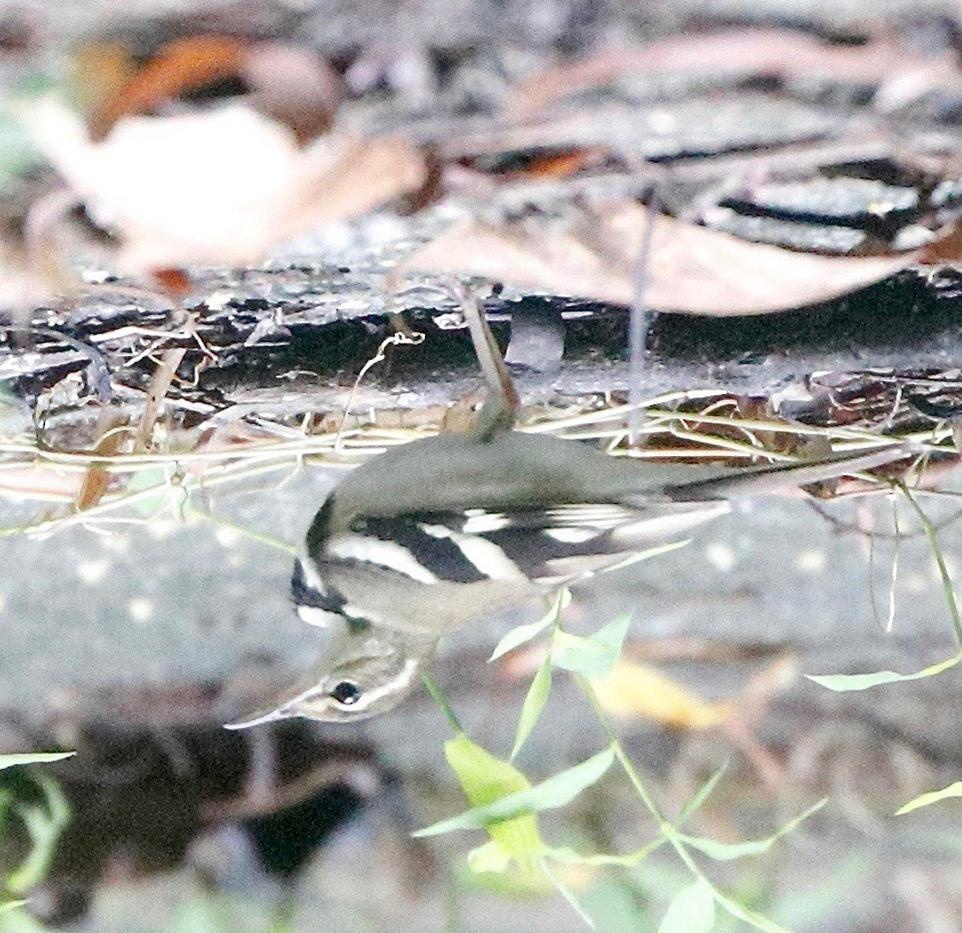wagtail: (231, 383, 844, 744)
